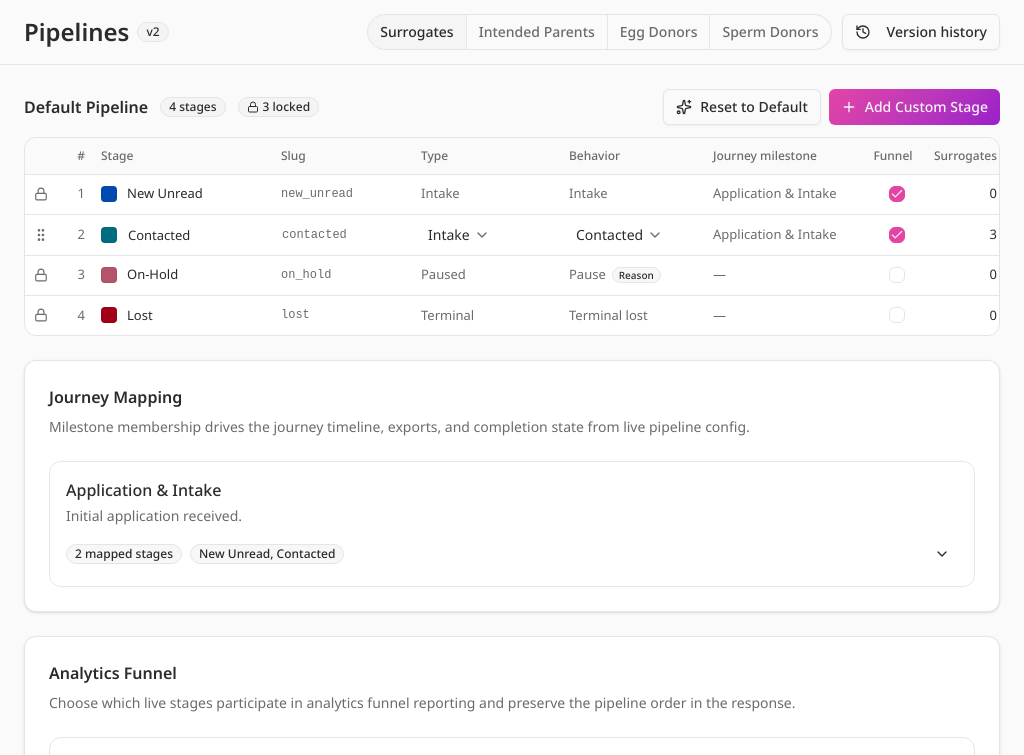
Test: PipelinesSettingsPage › hides journey milestone details by default and expands them on demand
Click the button named "edit details for application & intake". click: (942, 554)
box: left=926, top=538, right=958, bottom=570
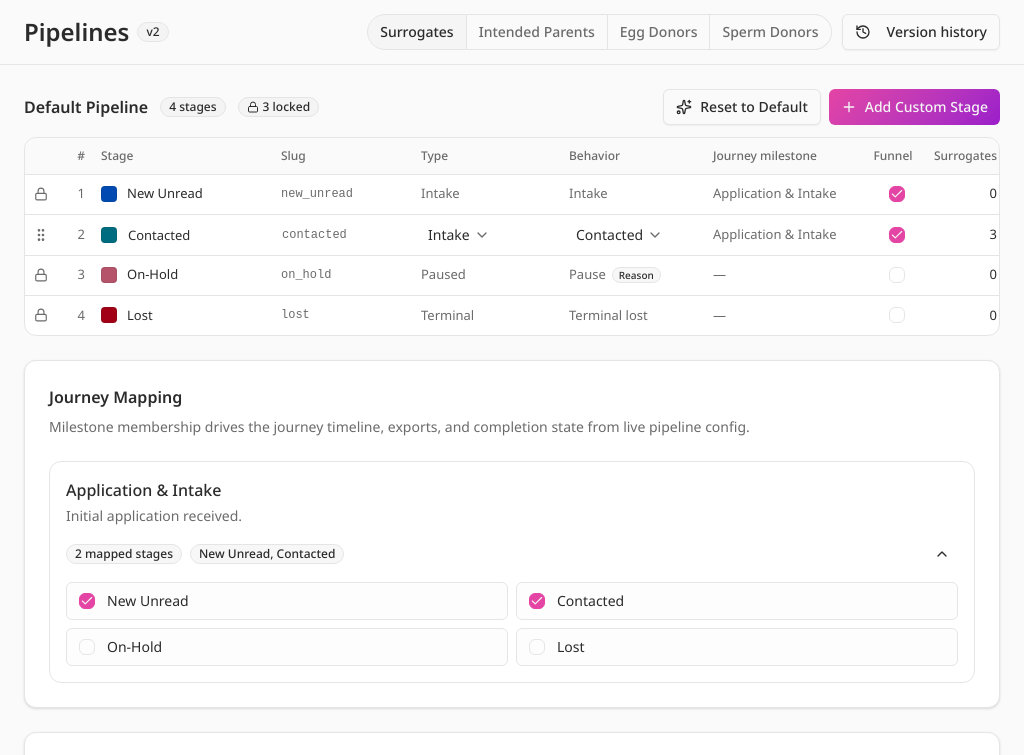
Expected: the text "2 mapped stages" is shown, left=66, top=544, right=182, bottom=564
Result: the checkbox named "Application & Intake includes New Unread" is shown at left=79, top=593, right=95, bottom=609
